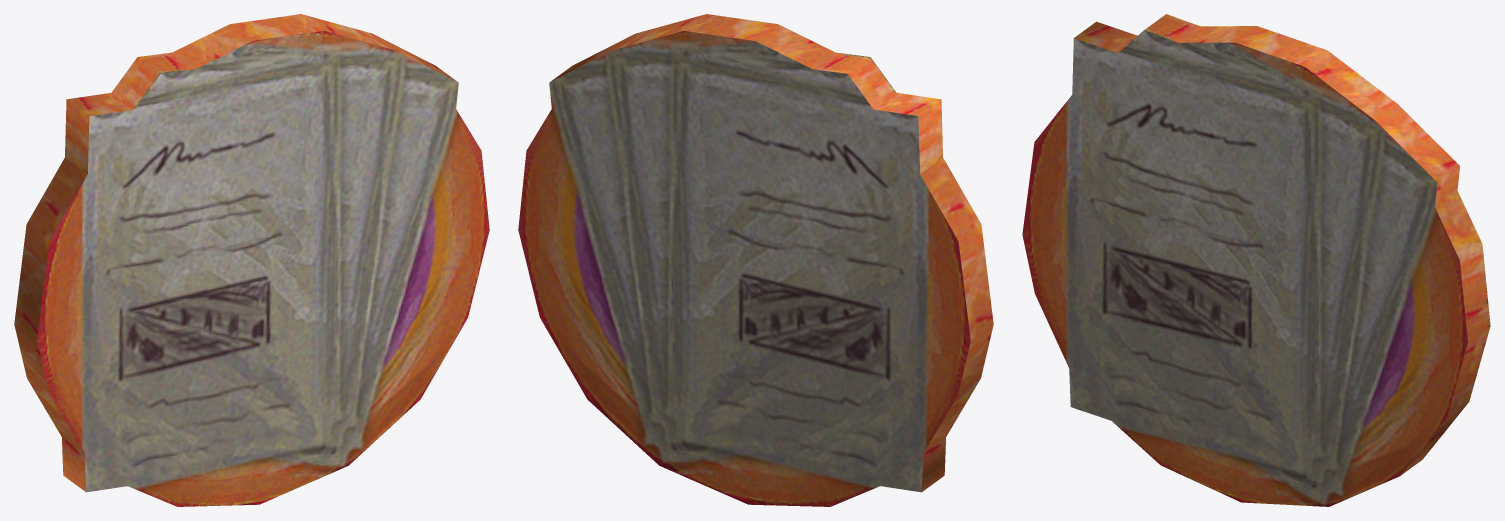
File: popular_spin.FBX
The picture shows the model from 3 angles, left to right: view 1: azimuth 30°, elevation 25°; view 2: azimuth 150°, elevation 25°; view 3: azimuth 330°, elevation 25°; orthographic projection.
Parts seen in each view (by area): view 1: Cylinder001; view 2: Cylinder001; view 3: Cylinder001.
Boxes of the visible parts, x1,y1,x2,y2 form: Cylinder001: (14,14,489,506); Cylinder001: (518,14,993,506); Cylinder001: (1022,14,1490,506).
Size of the model in its own units: 128 by 11.25 by 126.
Materials: 1 (1 with a texture image).
